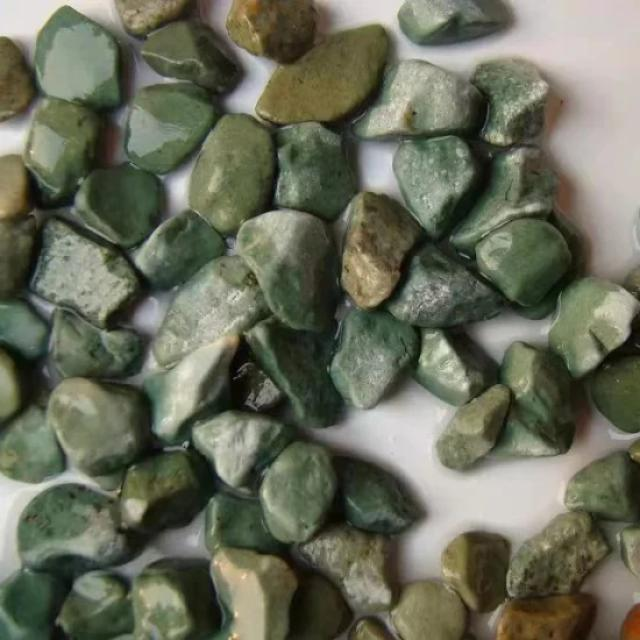Pecahan Agregat: (141, 278, 276, 435), (220, 183, 347, 321), (219, 89, 358, 205), (269, 257, 354, 439), (346, 246, 510, 340), (507, 262, 627, 390), (456, 198, 594, 308), (312, 179, 425, 309), (413, 146, 580, 233), (498, 478, 616, 600), (58, 140, 188, 248), (253, 20, 405, 112), (174, 531, 302, 640), (33, 371, 162, 478), (364, 127, 501, 226), (461, 46, 579, 160), (468, 343, 578, 459), (400, 0, 556, 81), (28, 476, 156, 573), (26, 218, 152, 316), (193, 116, 296, 233), (309, 290, 412, 404), (366, 49, 487, 144), (24, 13, 141, 109), (294, 511, 409, 604), (203, 542, 311, 636), (8, 74, 104, 177), (426, 497, 533, 588), (114, 80, 223, 166), (256, 444, 365, 530), (431, 359, 495, 504), (534, 424, 632, 514), (154, 15, 256, 100), (198, 395, 283, 494), (130, 187, 221, 278), (316, 459, 418, 537), (0, 395, 81, 493), (374, 562, 482, 634), (40, 304, 143, 376), (0, 570, 128, 623)
